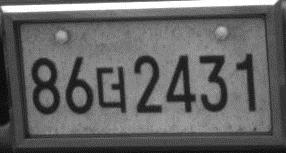1: (231, 51, 264, 112)
2: (132, 54, 164, 113)
3: (198, 54, 228, 113)
4: (163, 53, 197, 114)
6: (64, 55, 94, 114)
8: (29, 57, 60, 115)
더: (94, 65, 129, 114)
